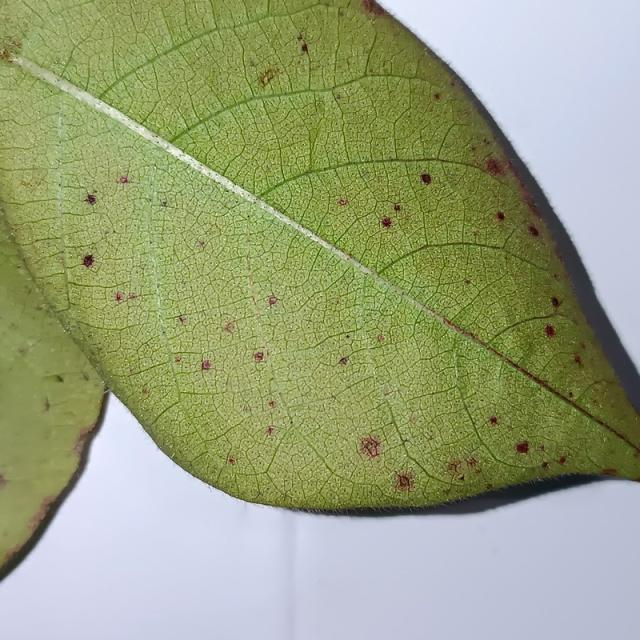Bacterial_Blight: (81, 174, 135, 211), (440, 314, 481, 342), (375, 201, 410, 231), (445, 456, 480, 483), (484, 155, 513, 179), (357, 435, 383, 459), (0, 36, 24, 62), (394, 470, 416, 493), (18, 175, 45, 190), (258, 68, 279, 87), (364, 1, 387, 17), (419, 167, 436, 187), (265, 292, 280, 308), (81, 253, 96, 268), (543, 323, 557, 339), (83, 192, 99, 206), (525, 196, 539, 211), (515, 441, 530, 454), (252, 349, 266, 362), (314, 98, 326, 113), (380, 216, 393, 228), (264, 425, 277, 437), (494, 210, 506, 222), (223, 322, 235, 334), (528, 225, 539, 237), (201, 360, 212, 370), (114, 292, 124, 303), (467, 457, 478, 467), (118, 175, 130, 184), (573, 354, 582, 366), (602, 468, 617, 475), (43, 397, 50, 412), (0, 474, 8, 487), (489, 416, 499, 426), (337, 197, 348, 206), (18, 347, 29, 356), (382, 386, 391, 397), (102, 230, 110, 242), (550, 297, 559, 307), (177, 315, 186, 325), (197, 240, 206, 249), (55, 374, 64, 383), (338, 357, 348, 365), (82, 371, 90, 381), (393, 204, 402, 212), (300, 43, 308, 52), (128, 293, 137, 301), (558, 456, 567, 464), (443, 487, 452, 495), (433, 93, 441, 101), (377, 334, 385, 342), (243, 404, 250, 413), (268, 401, 276, 408), (228, 457, 236, 464), (160, 199, 167, 207), (174, 356, 182, 363), (411, 415, 418, 423), (542, 462, 549, 469), (539, 445, 546, 452), (568, 391, 574, 399), (464, 279, 471, 285), (335, 93, 342, 99), (142, 387, 148, 394), (580, 342, 586, 349), (289, 418, 294, 426), (297, 35, 303, 41), (334, 298, 340, 304), (473, 231, 479, 237), (346, 334, 351, 339)
Cotton: (0, 0, 639, 574)
